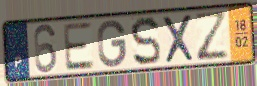6: (32, 22, 59, 76)
E: (61, 20, 97, 73)
G: (96, 19, 128, 70)
S: (129, 15, 162, 68)
X: (160, 13, 197, 66)
Z: (192, 10, 231, 64)
